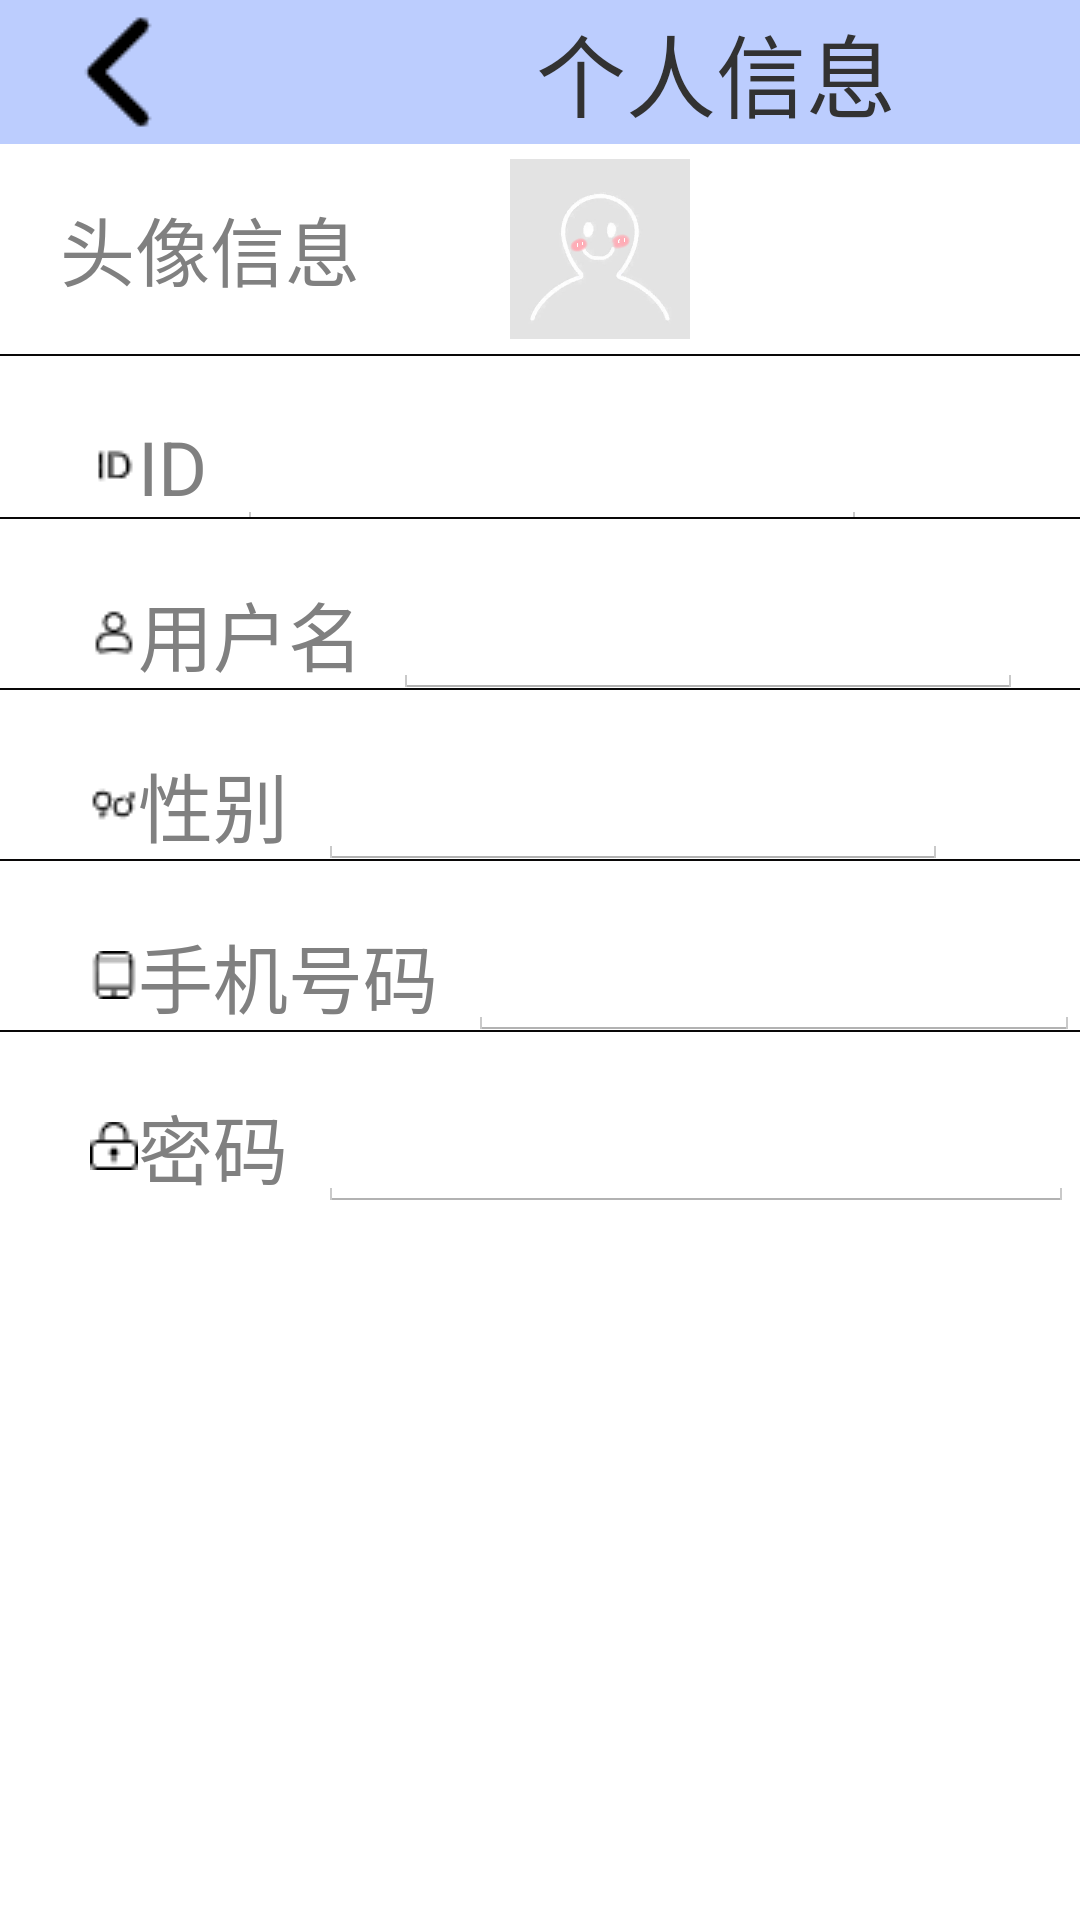

Screen size 1080 x 1920. Icon name, then its box in pixels as (x1, y1, x2, y2):
jiantou: (85, 17, 151, 127)
touxiang: (510, 159, 690, 339)
